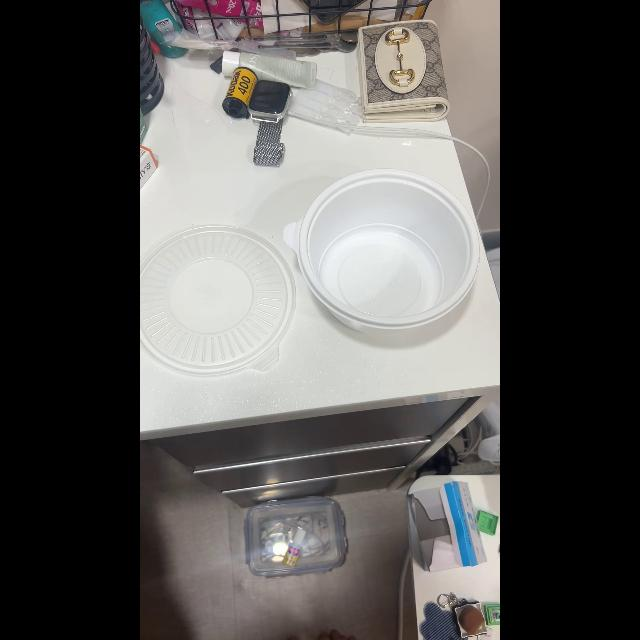clean: (304, 165, 482, 337), (140, 225, 298, 378)
